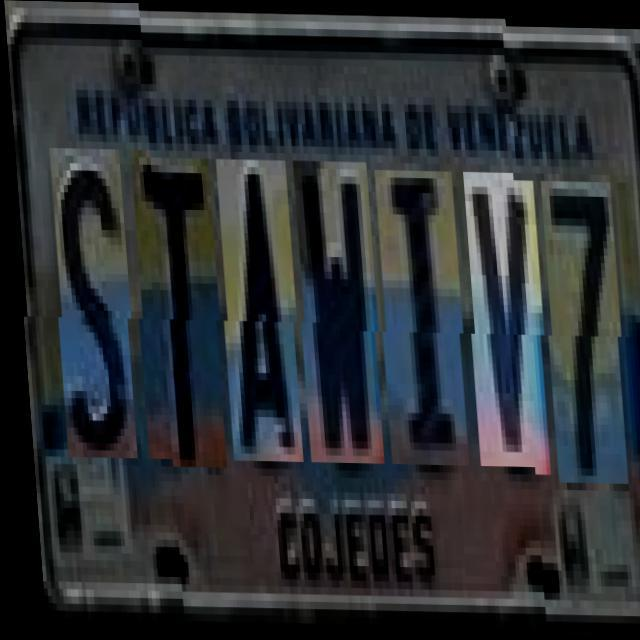7: (538, 171, 624, 474)
A: (214, 158, 300, 461)
I: (372, 168, 466, 464)
S: (48, 156, 135, 466)
T: (128, 157, 224, 467)
V: (460, 170, 548, 466)
W: (290, 160, 382, 462)
